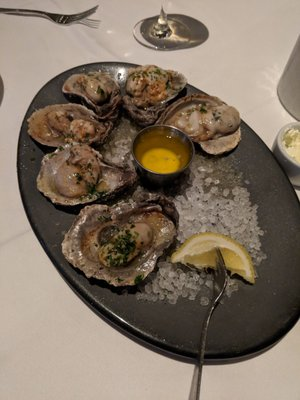burger: (2, 5, 100, 26)
pizza: (131, 125, 194, 188)
sushi: (131, 125, 194, 188)
